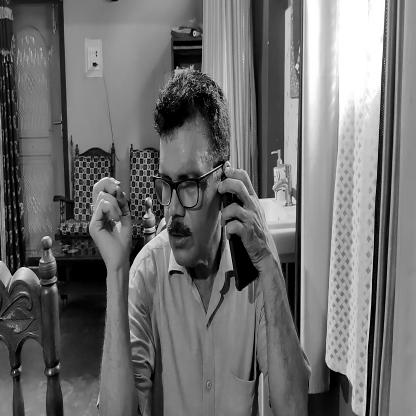Distracted: (150, 71, 229, 274)
